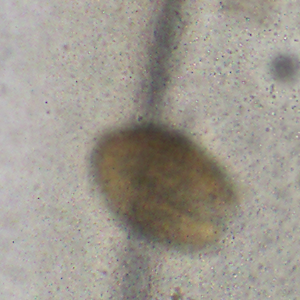Fasciola_hepatica_egg: (87, 120, 238, 254)
